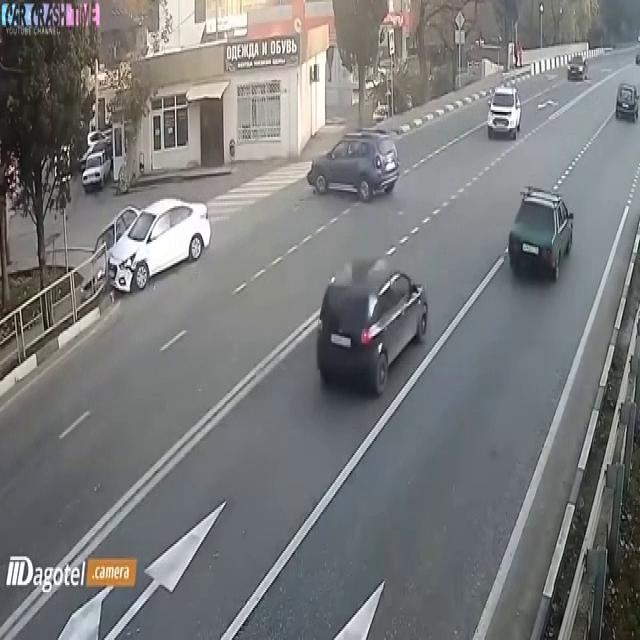accident: (84, 186, 161, 320)
